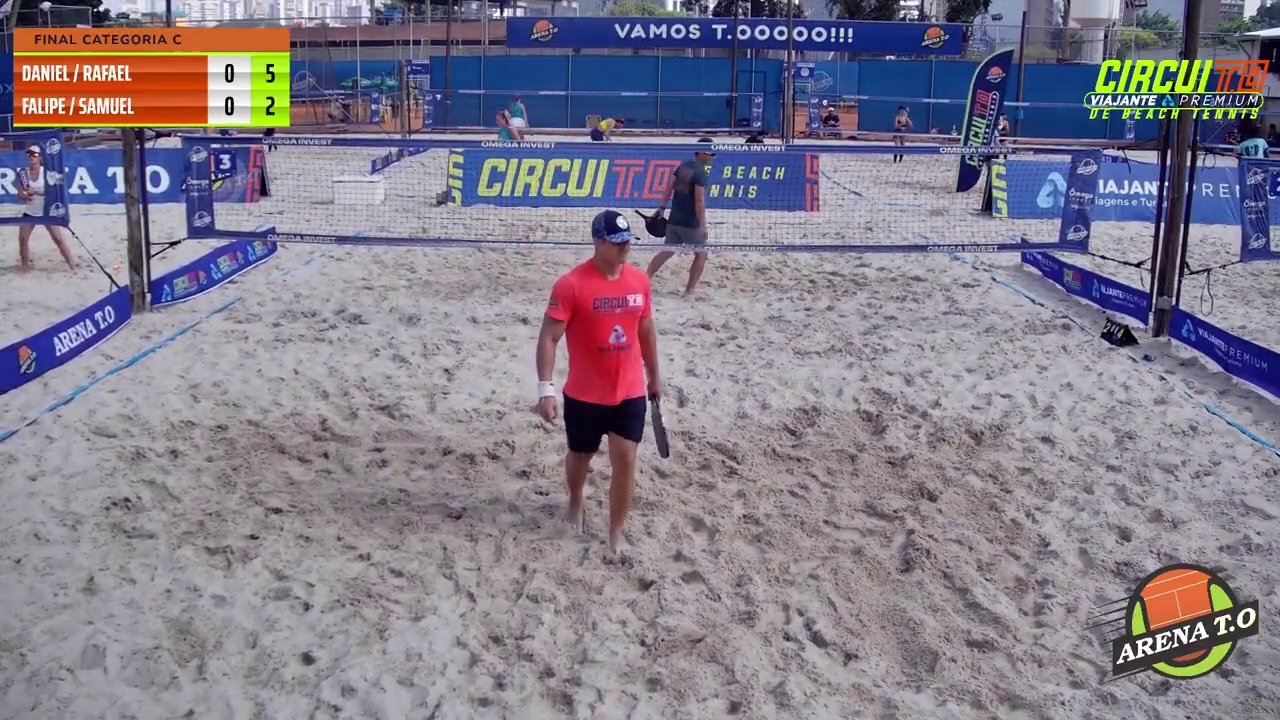court_line: (600, 0, 808, 544)
